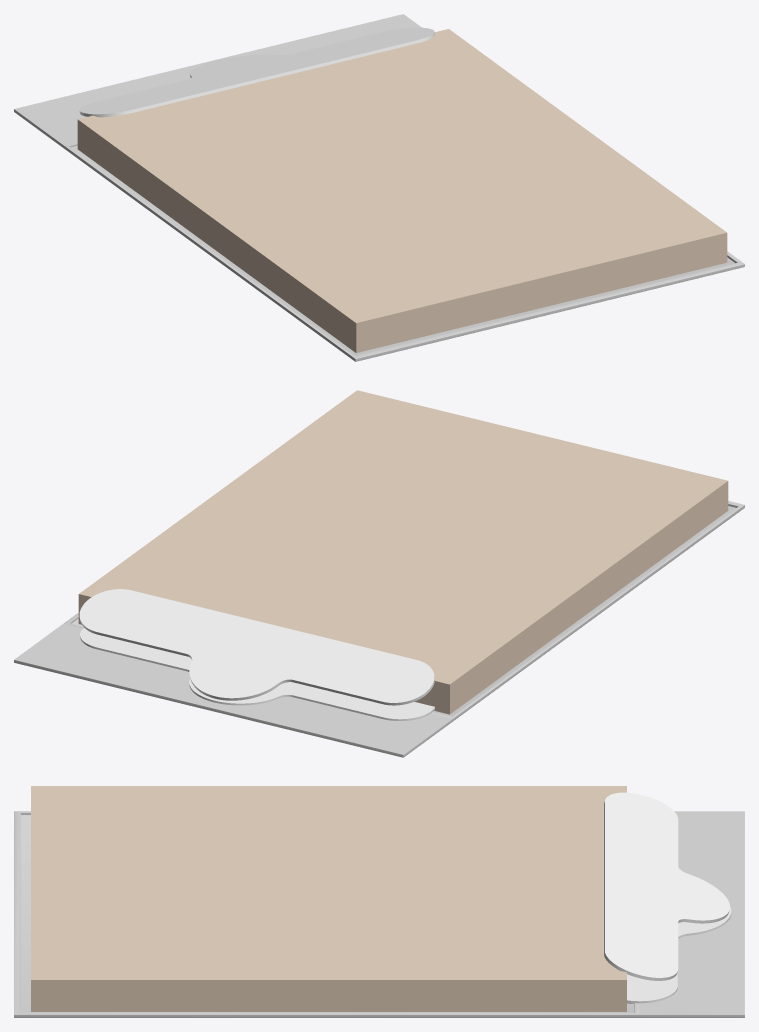
Rendered from 剪贴板.glb.
3 views of the same model, one above another, from view 1: azimuth 30°, elevation 25°; view 2: azimuth 150°, elevation 25°; view 3: azimuth 270°, elevation 25° (orthographic). The views are drawn at different scales.
Parts seen in each view (by area): view 1: 对象002, Rectangle002, 图形001; view 2: 对象002, 图形001, Rectangle002, 图形002; view 3: 对象002, Rectangle002, 图形001, 图形002.
Part boxes in pixels (x1,y1,x2,y2): 对象002: (77,29,727,352); Rectangle002: (14,14,744,361); 图形001: (79,27,434,117); 对象002: (78,390,728,714); 图形001: (79,589,434,705); Rectangle002: (14,501,744,757); 图形002: (80,628,434,720); 对象002: (31,786,626,1011); Rectangle002: (14,811,744,1017); 图形001: (604,792,729,980); 图形002: (627,906,731,1003).
Size of the model in its own units: 5.29 by 0.4836 by 8.03.
